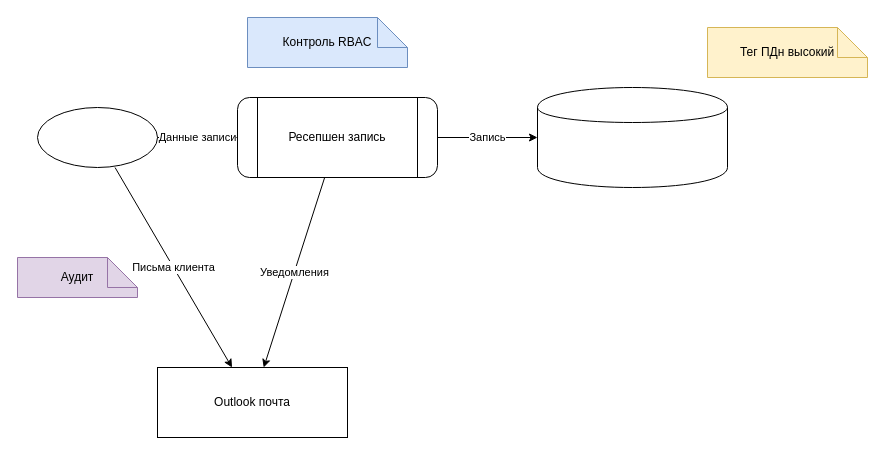
Image size: 885x455. Some labels were removed from this diagram. Here are the shapes that lost their labels. From the top down, the centre of each, then its label:
the point at 97,137: Пациент
the point at 632,137: Журнал записей Excel
